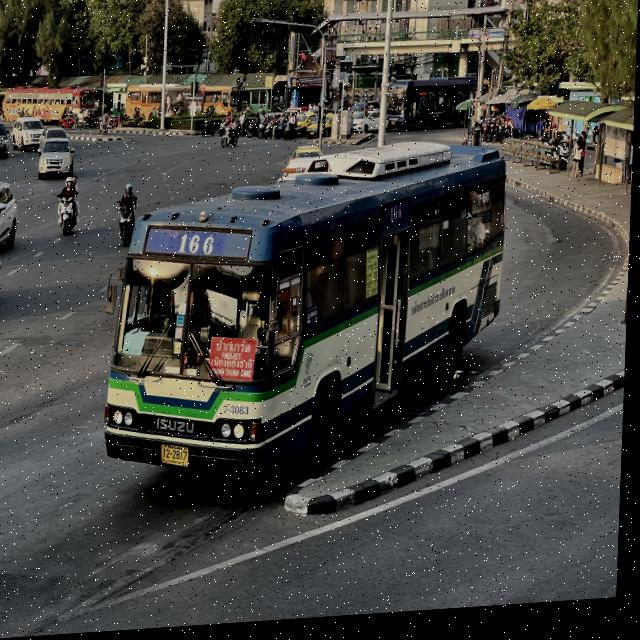BMTA-bus: (104, 140, 511, 492)
Bus-Line-Number: (172, 227, 224, 266)
Destination-Sign-Extra-Bus: (210, 335, 259, 390)
